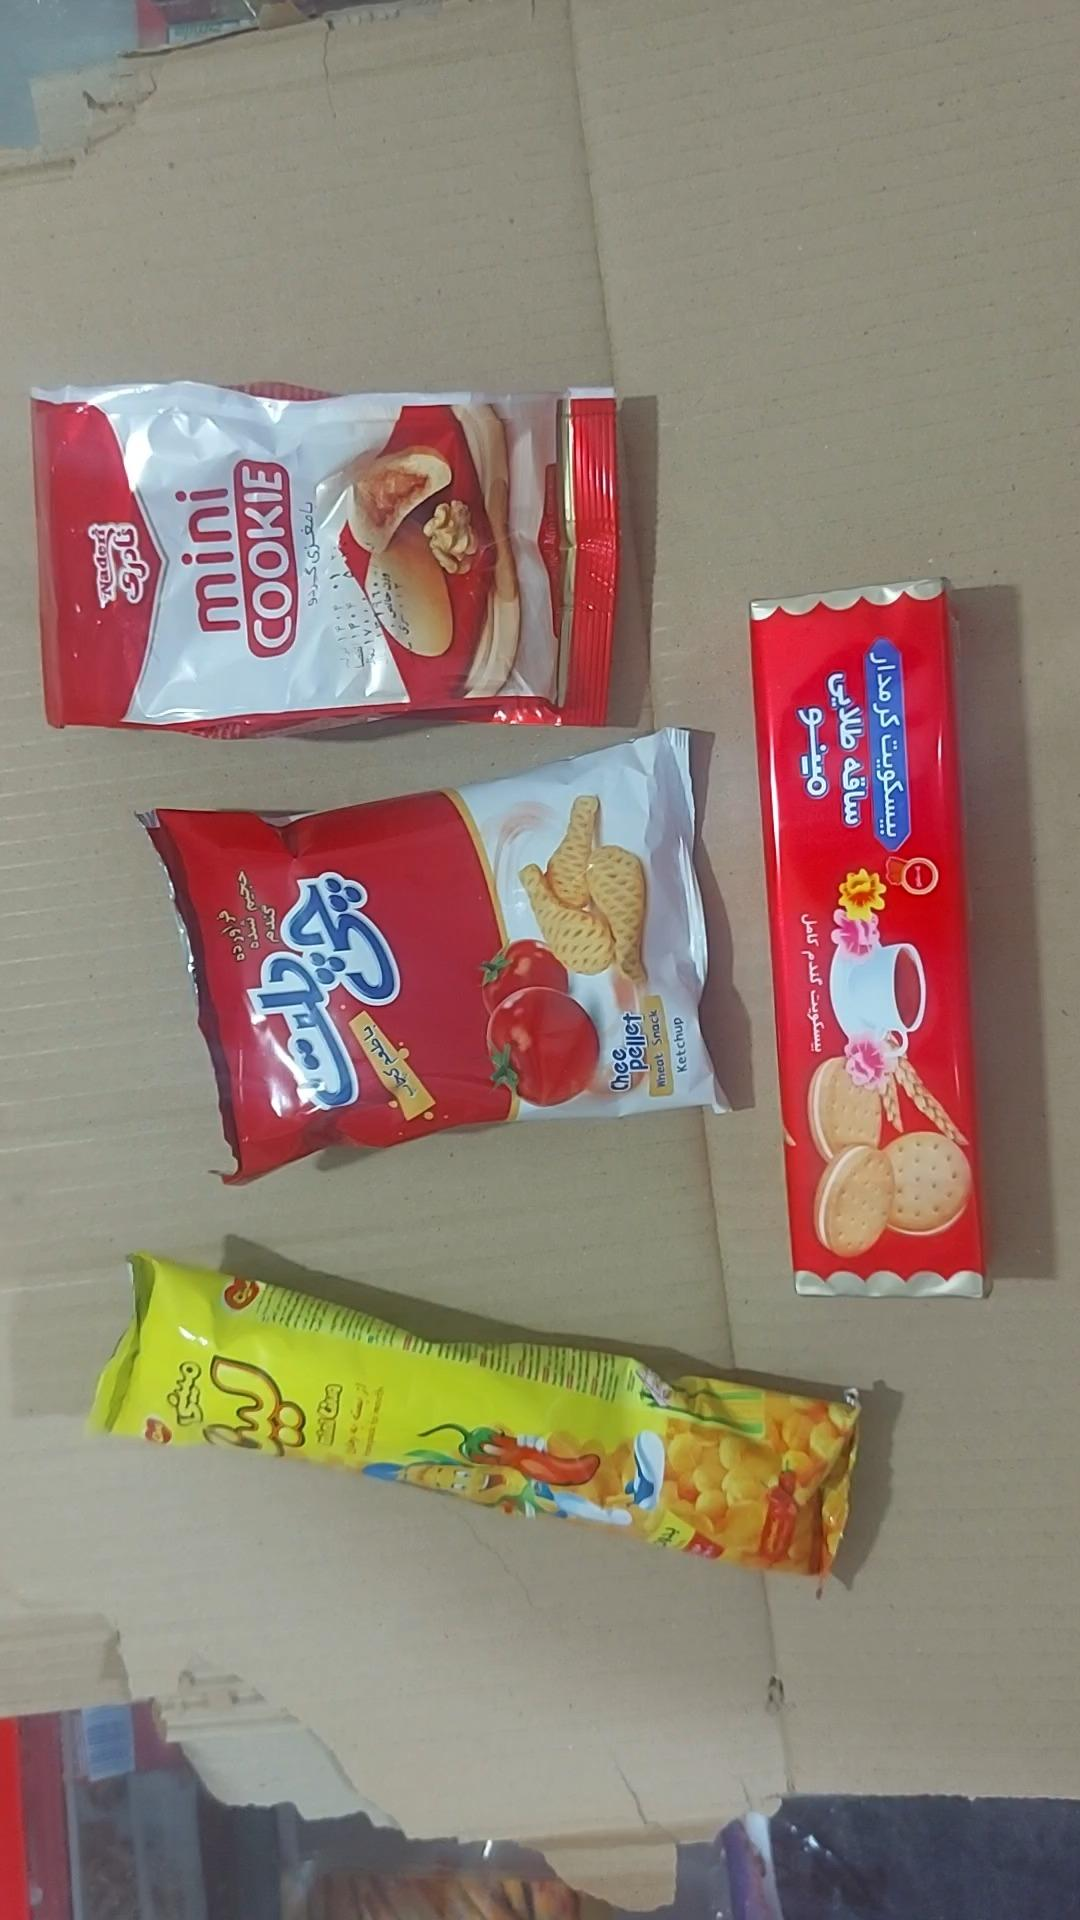Chee pellet ketchup: (138, 729, 727, 1187)
Mini Lina: (87, 1253, 866, 1577)
Minoo cream biscuit: (750, 582, 990, 1303)
Naderi mini cookie: (30, 381, 624, 741)
